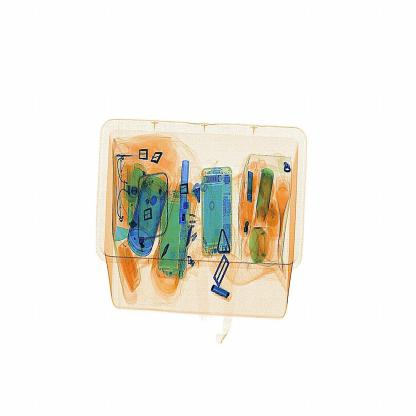pliers: (172, 151, 194, 230)
